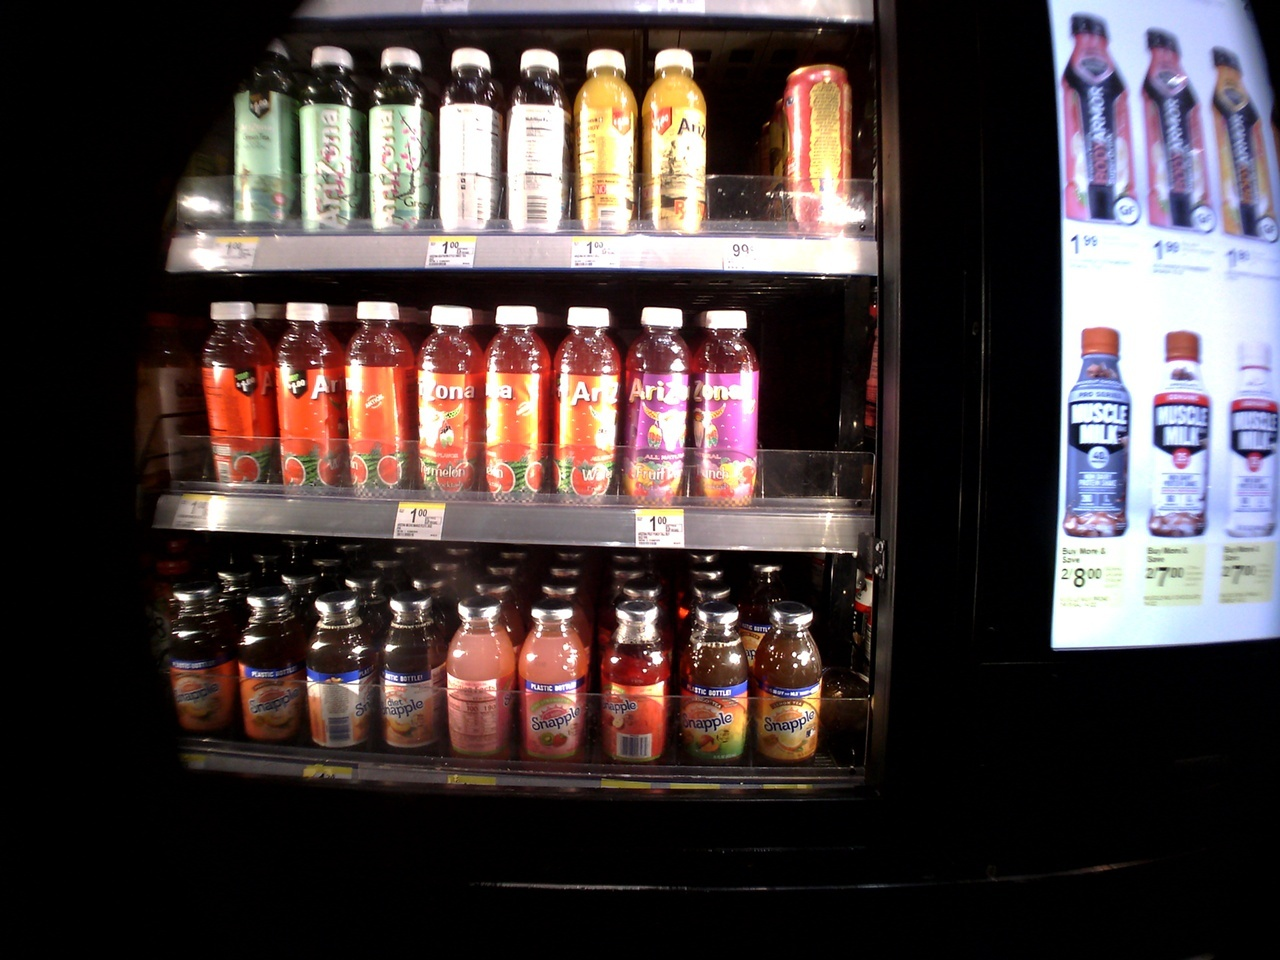shelf: (137, 537, 891, 805), (153, 23, 859, 283), (135, 294, 852, 547)
